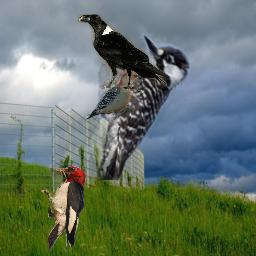Crow: (78, 14, 170, 92)
Woodpecker: (71, 30, 191, 180), (41, 166, 86, 252), (86, 72, 145, 120)
